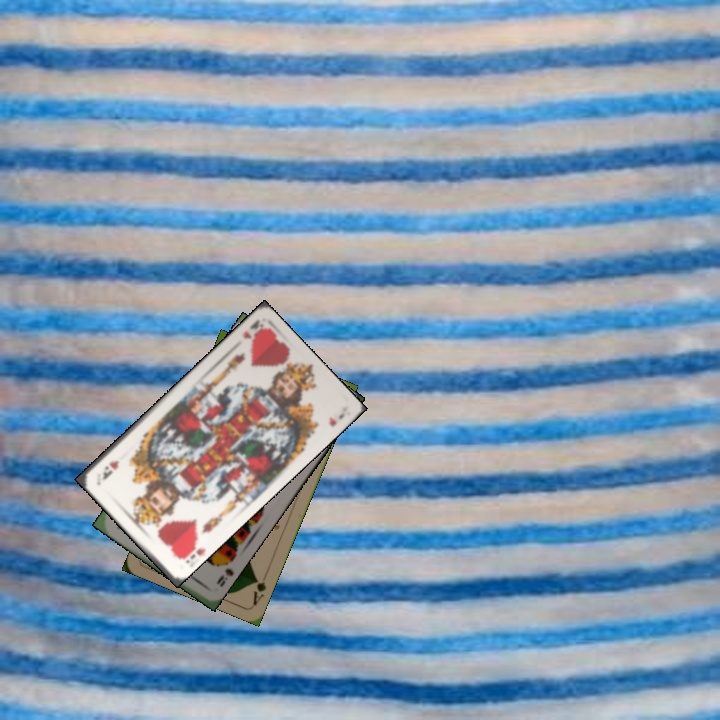GA: (248, 569, 271, 607)
HK: (174, 534, 202, 566), (239, 316, 267, 344)
S9: (212, 554, 236, 590)
